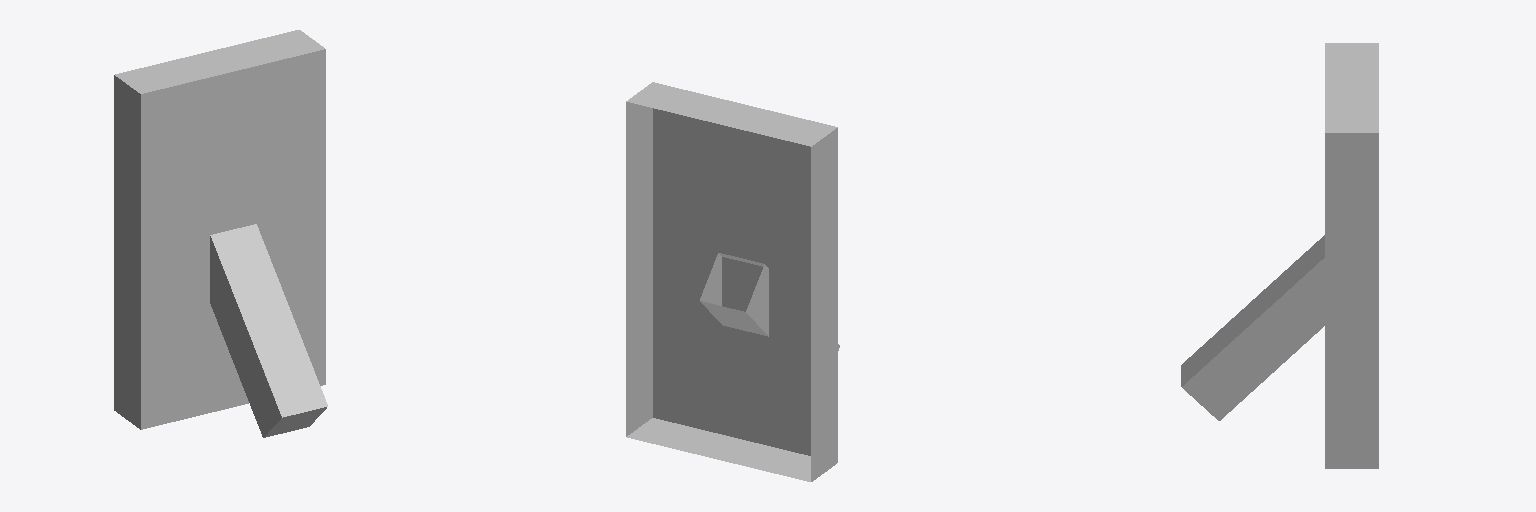
Rendered from lever_1.obj.
3 views of the same model, side by side, from view 1: azimuth 30°, elevation 25°; view 2: azimuth 150°, elevation 25°; view 3: azimuth 270°, elevation 25° (orthographic).
Size of the model in its own units: 0.25 by 0.4325 by 0.2301.